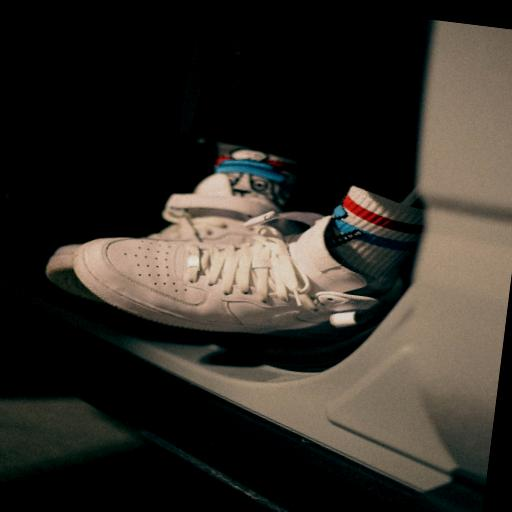shoe: (74, 214, 378, 338), (148, 173, 280, 246)
